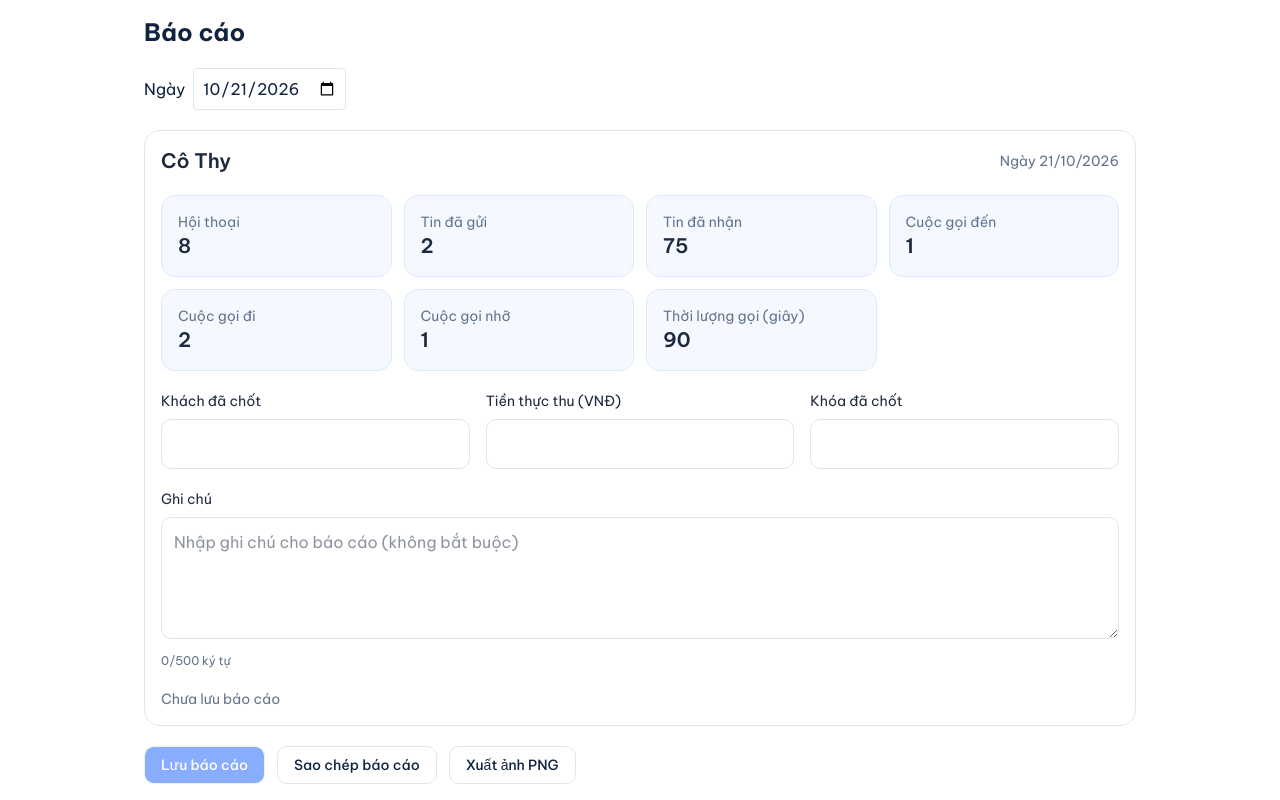
Scenario: Daily SaleWork report › loads the exact day and saves collected money with customer/course counts
This screenshot has width=1280, height=800.
Expected: the text "75" is shown, [663,233,688,258]
Expected: the text "Cuộc gọi đến" is shown, [906,213,996,231]
Type "3" into the number field labelled "Khách đã chốt" at point(315, 444), box [161,419,470,469]
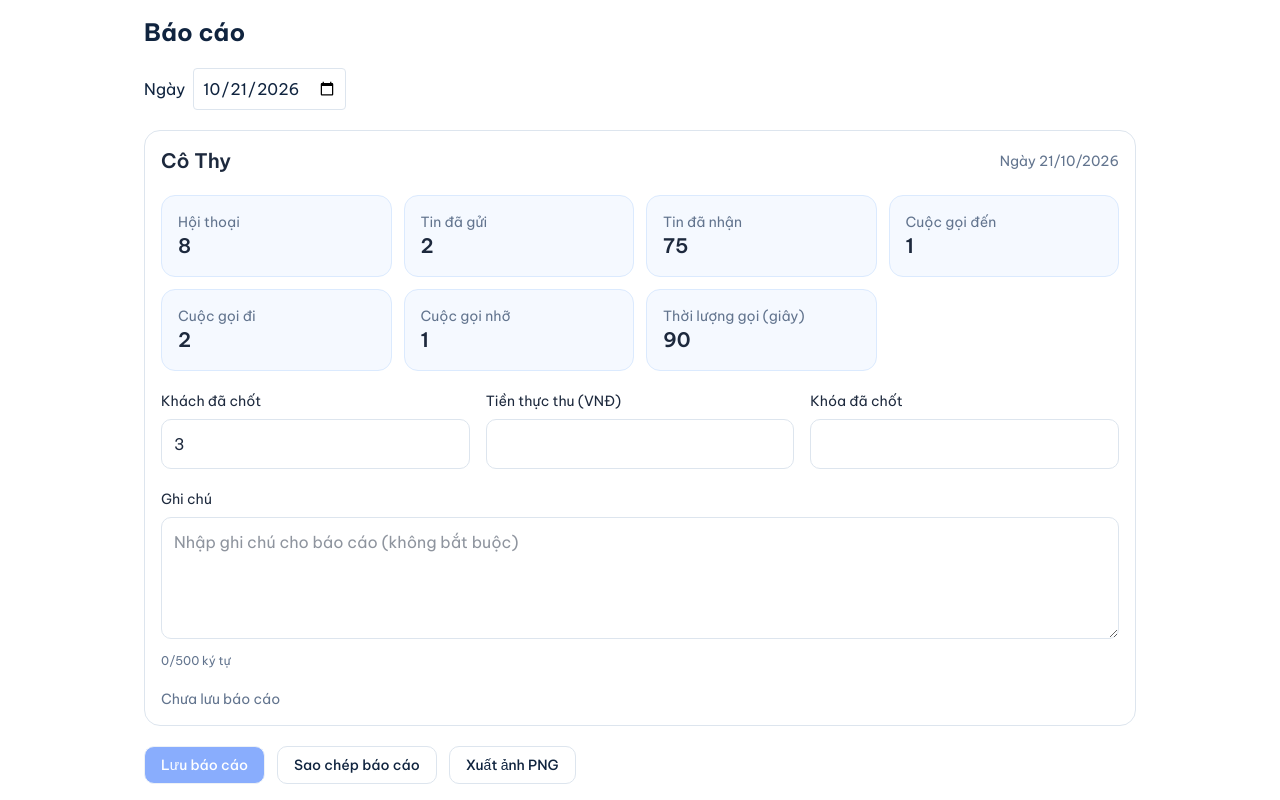
Type "2500000" into the number field labelled "Tiền thực thu (VNĐ)" at point(640, 444), box [486,419,794,469]
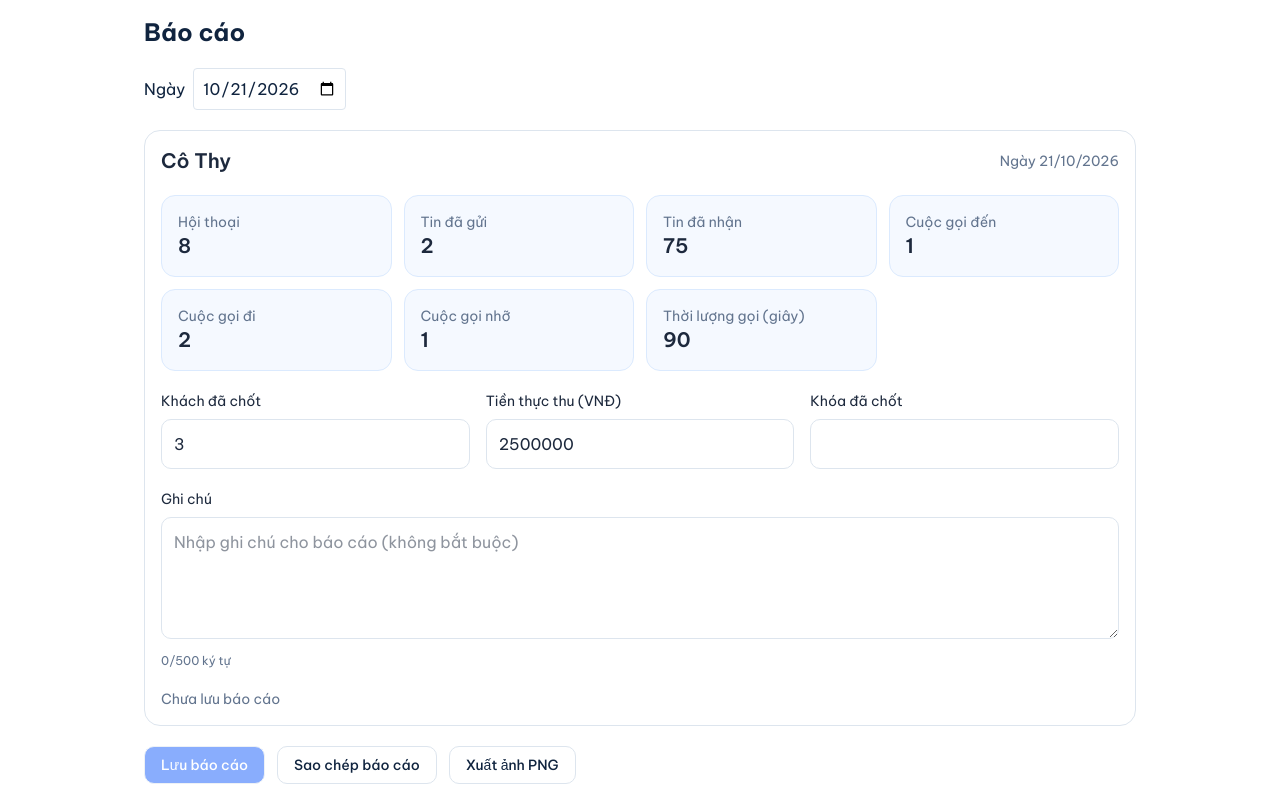
Type "4" into the number field labelled "Khóa đã chốt" at point(965, 444), box [810,419,1119,469]
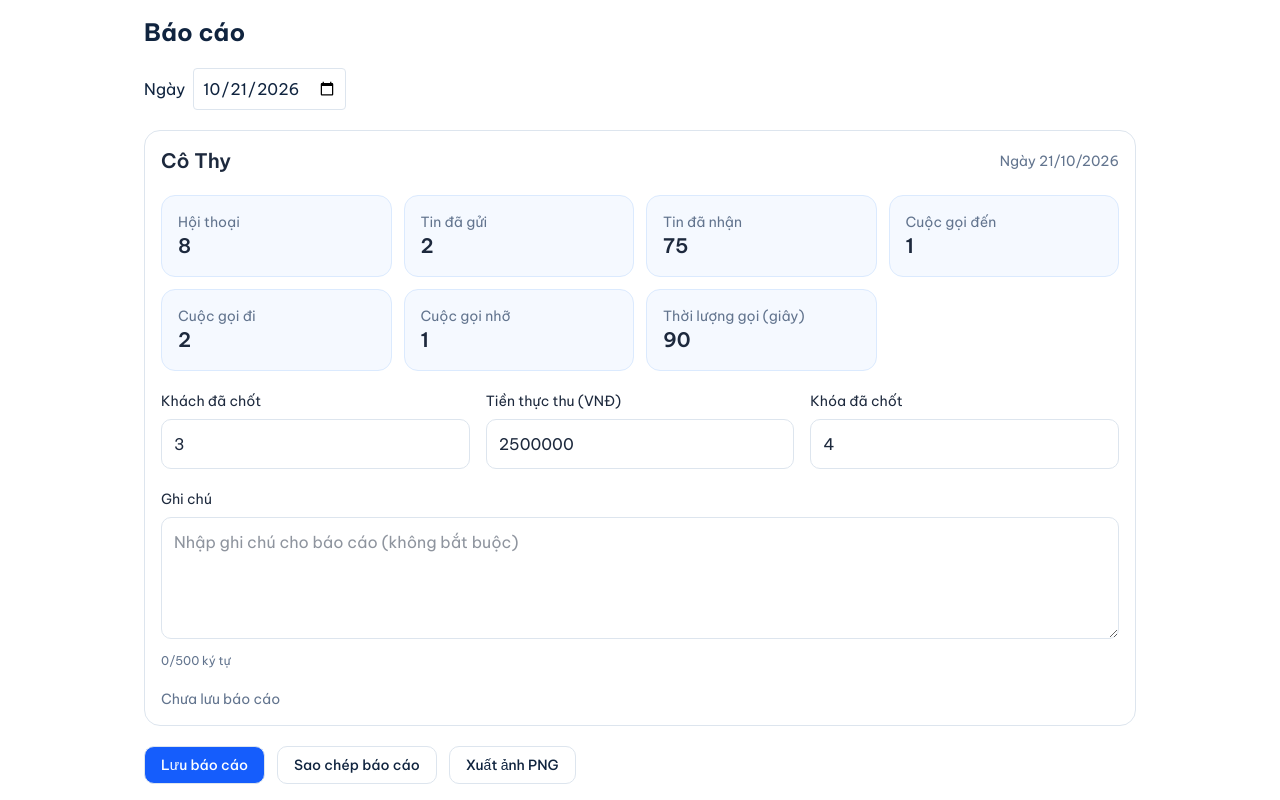
Type "Khách hẹn thanh toán ngày mai." into the text box labelled "Ghi chú" at point(640, 578), box [161,517,1119,639]
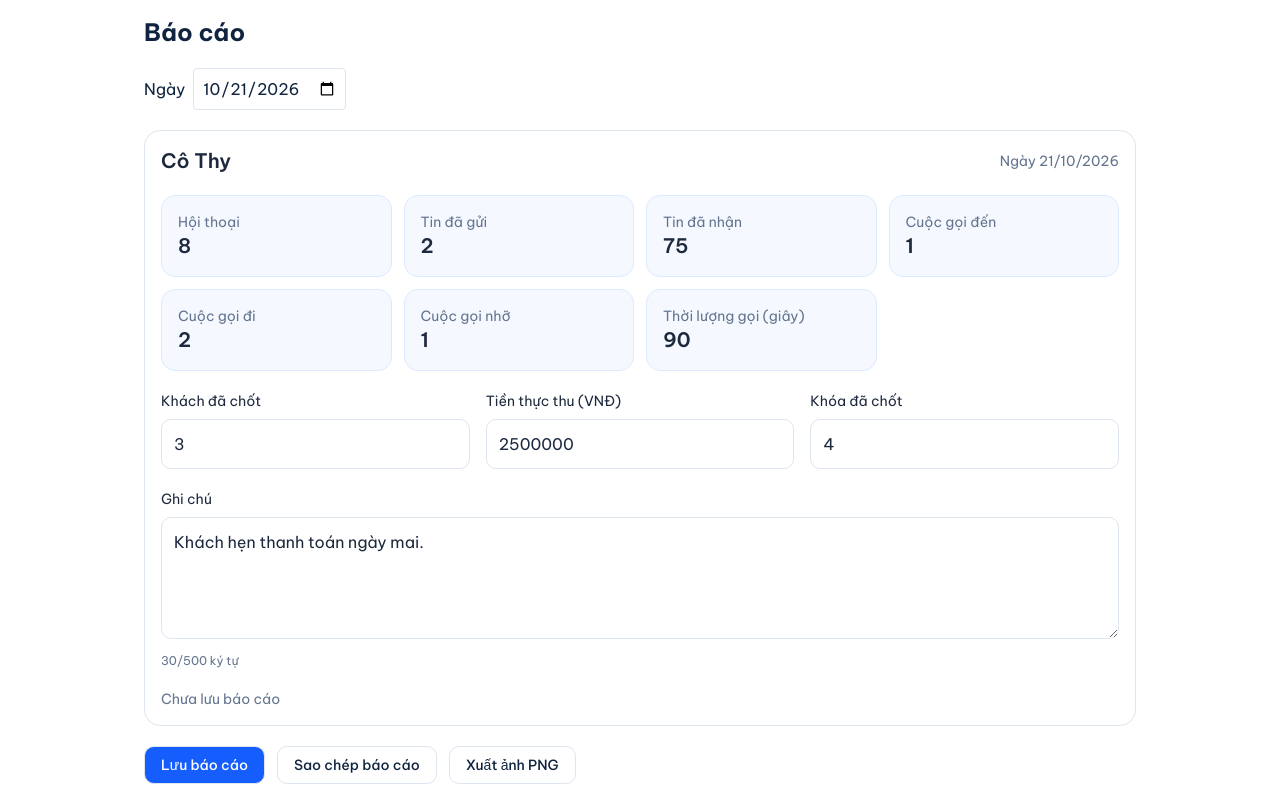
Click the button "Lưu báo cáo" at point(204, 765), box [144,746,265,784]
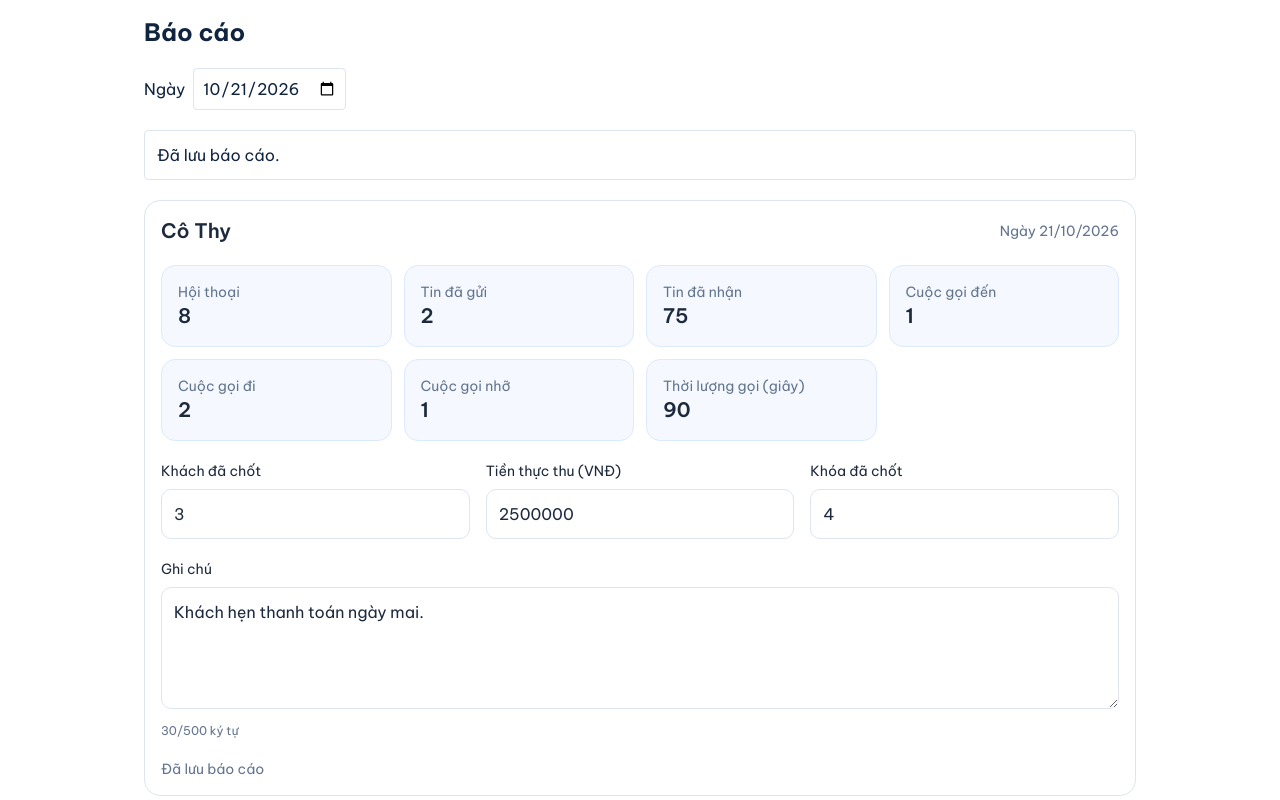
Result: the text "Đã lưu báo cáo." is shown at [144,130,1136,180]
